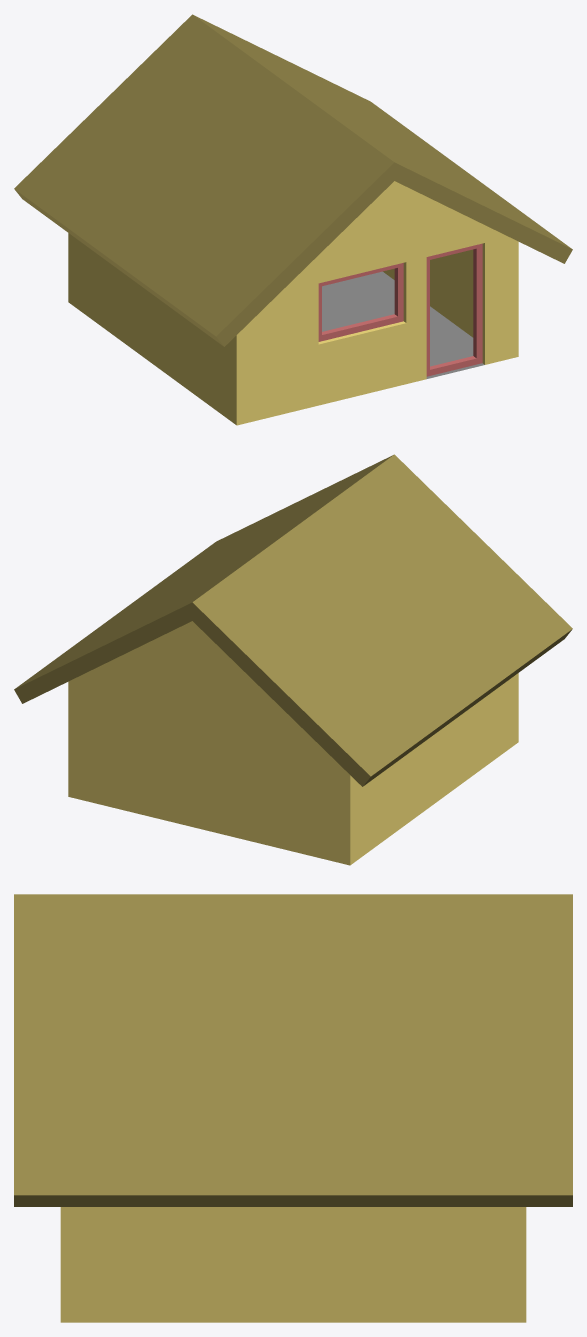
The model's file is result.glb.
3 renders of one model, top to bottom at view 1: azimuth 30°, elevation 25°; view 2: azimuth 150°, elevation 25°; view 3: azimuth 270°, elevation 25°, orthographic. The views are drawn at different scales.
Visible parts, largest first — view 1: 45c2ecfb-ac0d-47b2-93ea-90aaeedfe5b2__undefined (×2), 2068f97d-b45a-4042-b39b-81c11c7d8cff__undefined, a0c970e0-0779-48fd-aa7c-95ca0b597c00__Plane_7, 4f7f316e-8ca3-4df9-90d6-1e63a696b88a__Box, 9ac5f329-6107-40a1-8221-c412cf5b0a92__Box_3; view 2: 45c2ecfb-ac0d-47b2-93ea-90aaeedfe5b2__undefined (×2), 2068f97d-b45a-4042-b39b-81c11c7d8cff__undefined; view 3: 45c2ecfb-ac0d-47b2-93ea-90aaeedfe5b2__undefined, 2068f97d-b45a-4042-b39b-81c11c7d8cff__undefined.
Part boxes in pixels (x1,y1,x2,y2): 45c2ecfb-ac0d-47b2-93ea-90aaeedfe5b2__undefined (×2): [14, 14, 572, 346]; 2068f97d-b45a-4042-b39b-81c11c7d8cff__undefined: [68, 181, 518, 425]; a0c970e0-0779-48fd-aa7c-95ca0b597c00__Plane_7: [322, 271, 484, 378]; 4f7f316e-8ca3-4df9-90d6-1e63a696b88a__Box: [426, 243, 482, 376]; 9ac5f329-6107-40a1-8221-c412cf5b0a92__Box_3: [318, 263, 403, 341]; 45c2ecfb-ac0d-47b2-93ea-90aaeedfe5b2__undefined (×2): [14, 454, 572, 786]; 2068f97d-b45a-4042-b39b-81c11c7d8cff__undefined: [68, 621, 518, 865]; 45c2ecfb-ac0d-47b2-93ea-90aaeedfe5b2__undefined: [14, 894, 572, 1206]; 2068f97d-b45a-4042-b39b-81c11c7d8cff__undefined: [60, 1207, 526, 1322].
Size of the model in its own units: 612 by 395 by 600.
